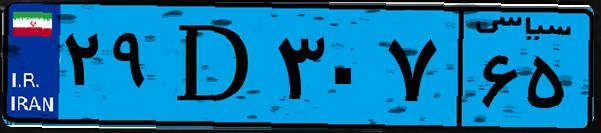0: (330, 28, 385, 110)
2: (57, 26, 110, 100)
3: (270, 28, 330, 110)
5: (525, 38, 570, 115)
6: (475, 38, 525, 113)
7: (385, 28, 445, 110)
9: (110, 28, 158, 98)
D: (158, 12, 270, 120)
